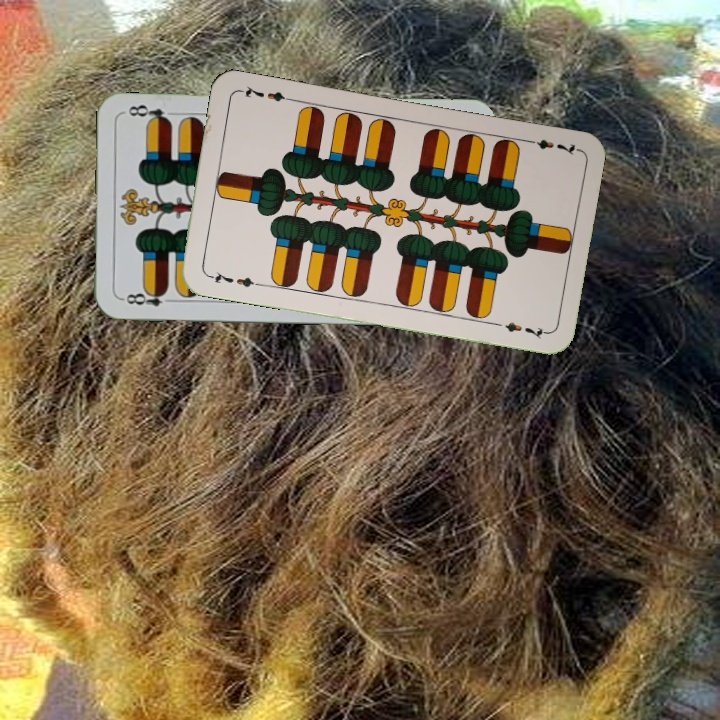E7: (521, 135, 580, 158), (204, 268, 263, 290)
E8: (118, 286, 177, 309)
